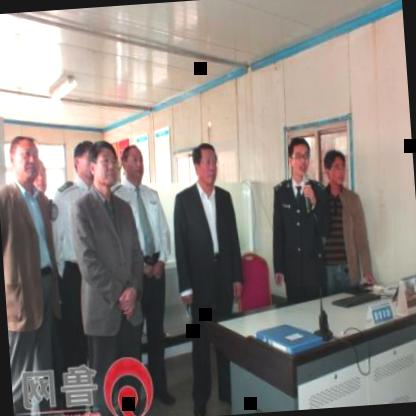head: (3, 131, 44, 189), (84, 140, 122, 196), (70, 134, 104, 188), (188, 140, 223, 192), (286, 133, 316, 184), (321, 144, 351, 194)
helmet: (118, 135, 149, 186)
